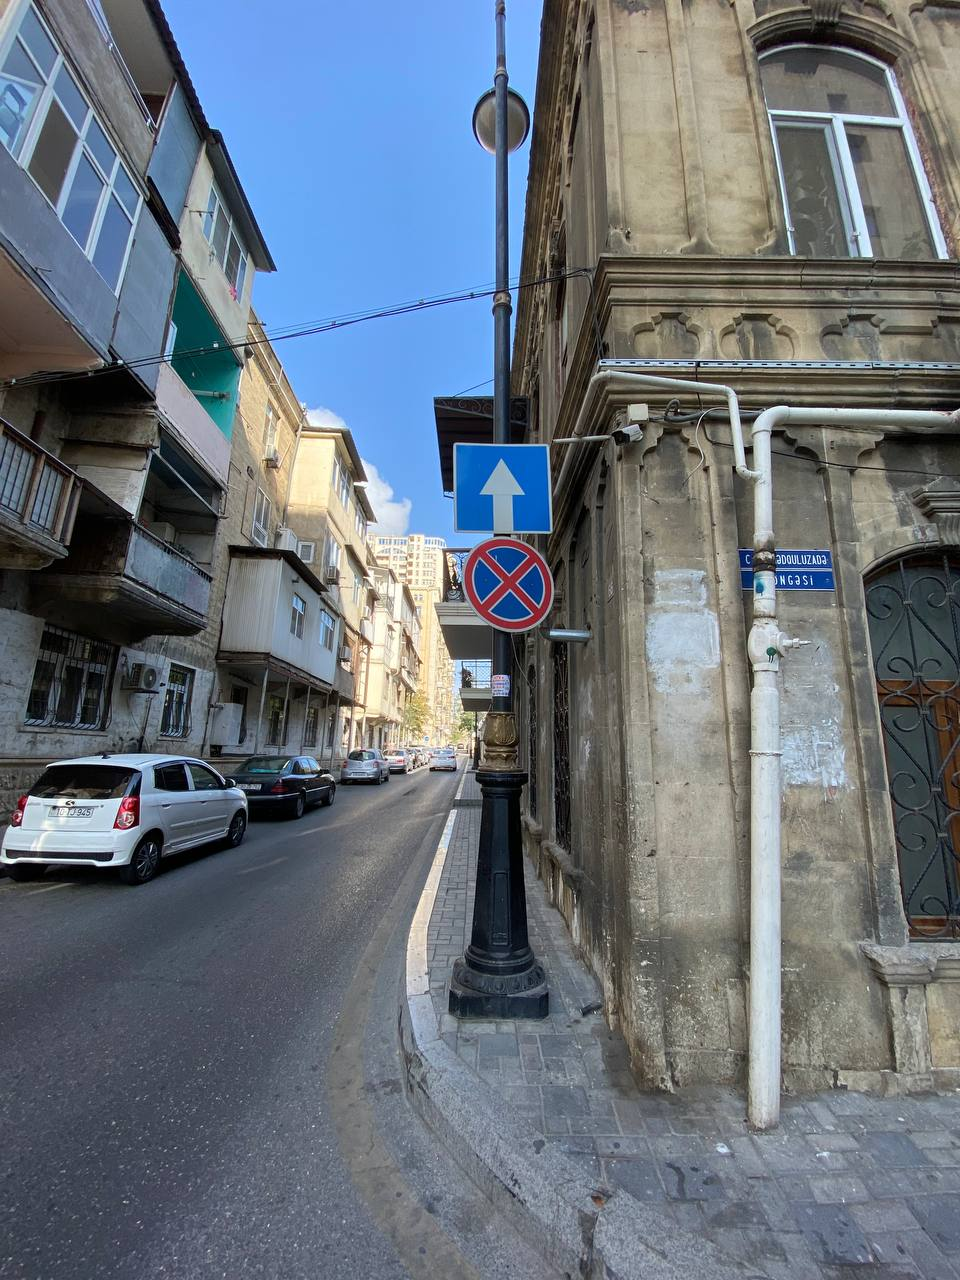No Parking: (462, 537, 554, 632)
